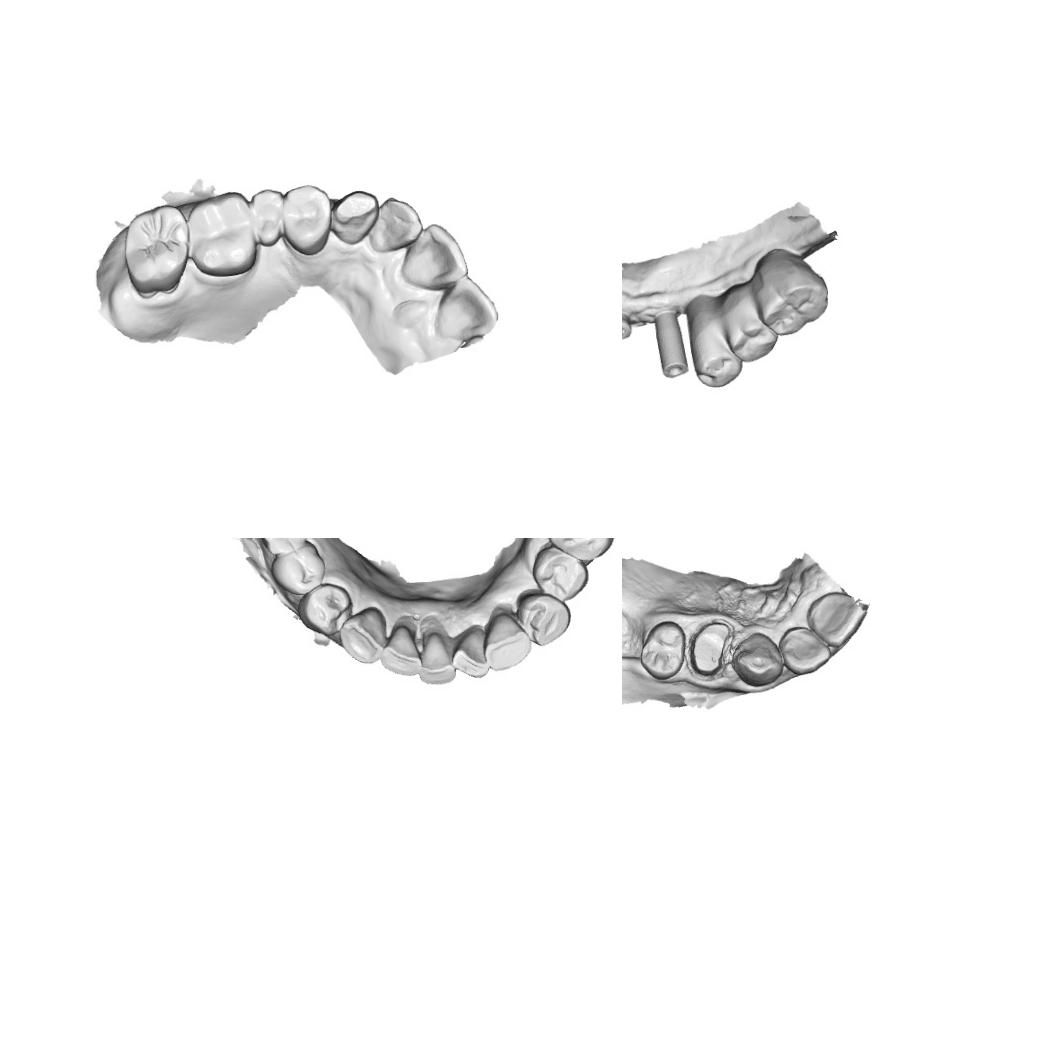canine: (730, 628, 785, 688), (336, 604, 390, 665), (330, 188, 379, 246), (484, 610, 531, 670)
crown: (684, 618, 735, 680)
implant: (654, 305, 691, 382)
implant_plus: (622, 303, 635, 348)
incisor: (400, 221, 470, 291), (432, 274, 500, 342), (804, 590, 867, 650), (368, 196, 424, 254), (778, 625, 833, 676), (380, 627, 424, 677), (418, 632, 453, 686), (456, 625, 490, 678)
molar: (754, 254, 833, 336), (185, 190, 258, 278), (122, 203, 190, 297), (545, 538, 620, 564)
premolar: (280, 182, 332, 257), (266, 545, 329, 597), (532, 546, 588, 602), (639, 619, 686, 681), (517, 591, 570, 645), (696, 337, 747, 390), (297, 588, 352, 634), (732, 306, 774, 358), (248, 188, 284, 248), (259, 538, 306, 557)
